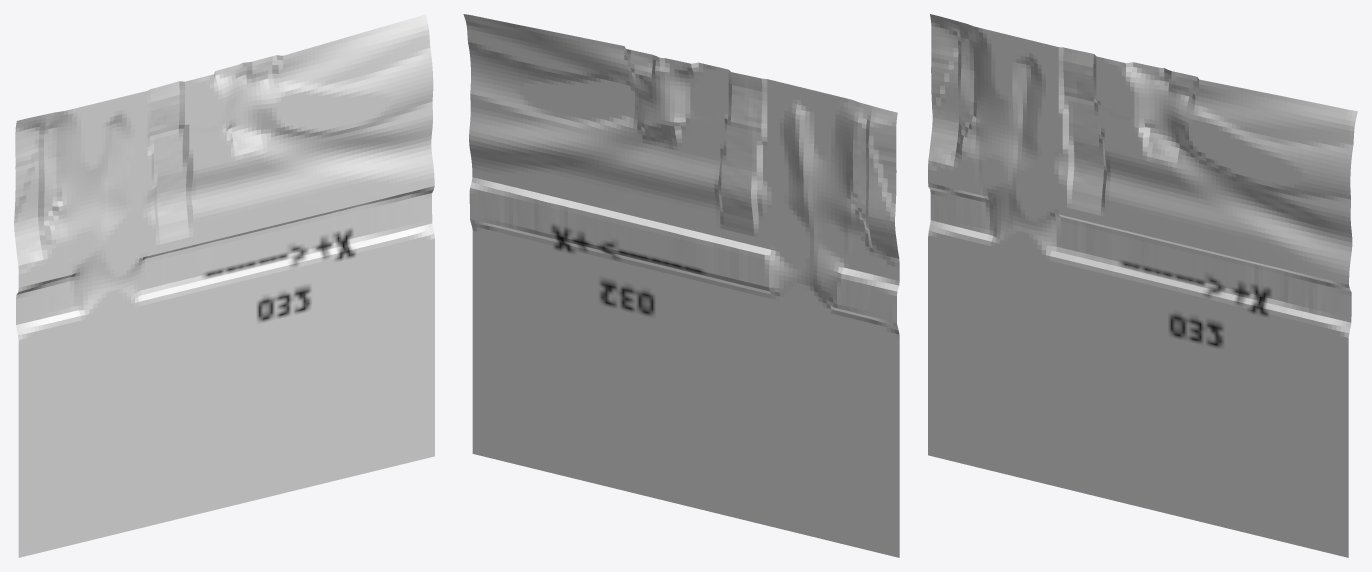
3 renders of one model, left to right at view 1: azimuth 30°, elevation 25°; view 2: azimuth 150°, elevation 25°; view 3: azimuth 330°, elevation 25°, orthographic. The views are drawn at different scales.
Parts seen in each view (by area): view 1: Ground032; view 2: Ground032; view 3: Ground032.
Boxes of the visible parts, x1,y1,x2,y2 form: Ground032: (14, 14, 434, 557); Ground032: (463, 14, 899, 557); Ground032: (928, 14, 1357, 557).
Size of what is drawn, in the model's own units: 100 by 3.77 by 100.
1 material, 1 textured.
